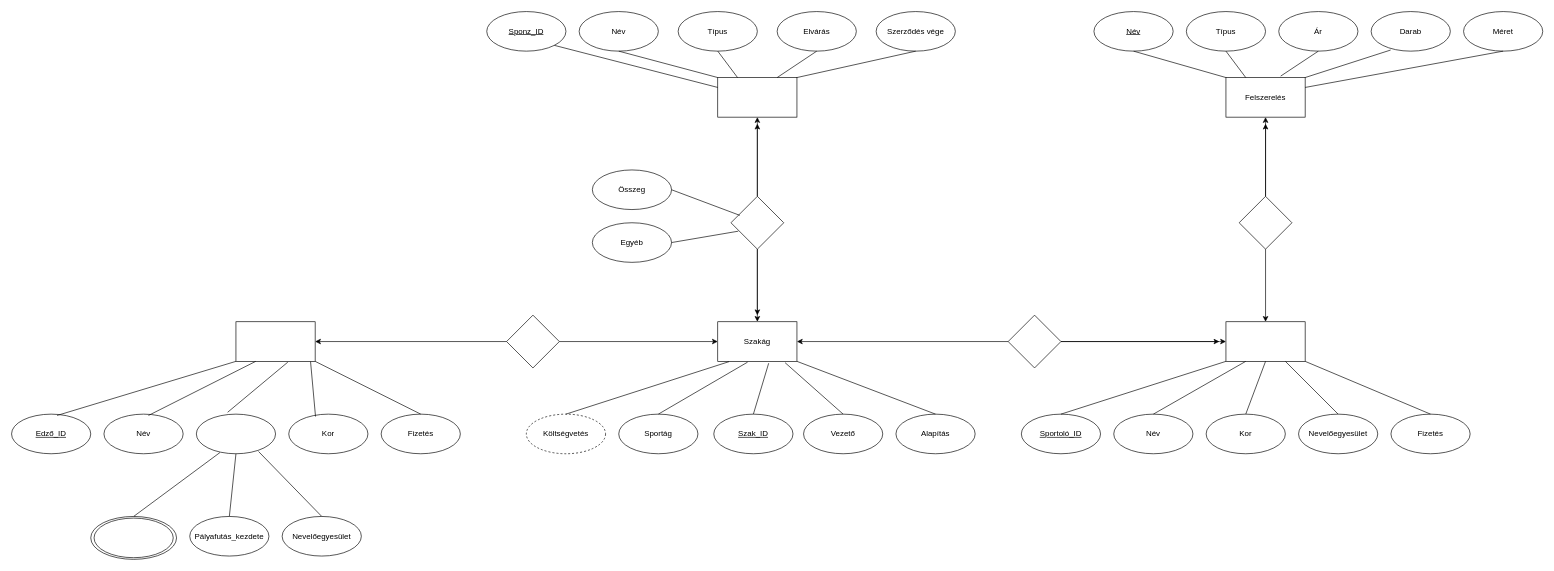
This 1554x571 diagram has some shape labels left out. The shapes that lost their labels are listed below. From the top down, each one's box as (x1, y1, x2, y2) in pixels, then its label:
(717, 77, 797, 117): Szponzor
(730, 196, 784, 249): Támogatás
(1238, 196, 1292, 249): F_S
(235, 321, 315, 361): Vezetőedző
(506, 314, 559, 368): V_SZ
(1007, 314, 1061, 368): SZ_S
(1225, 321, 1305, 361): Sportoló
(196, 413, 276, 454): Múlt
(93, 517, 173, 558): Legjobb_eredmény
